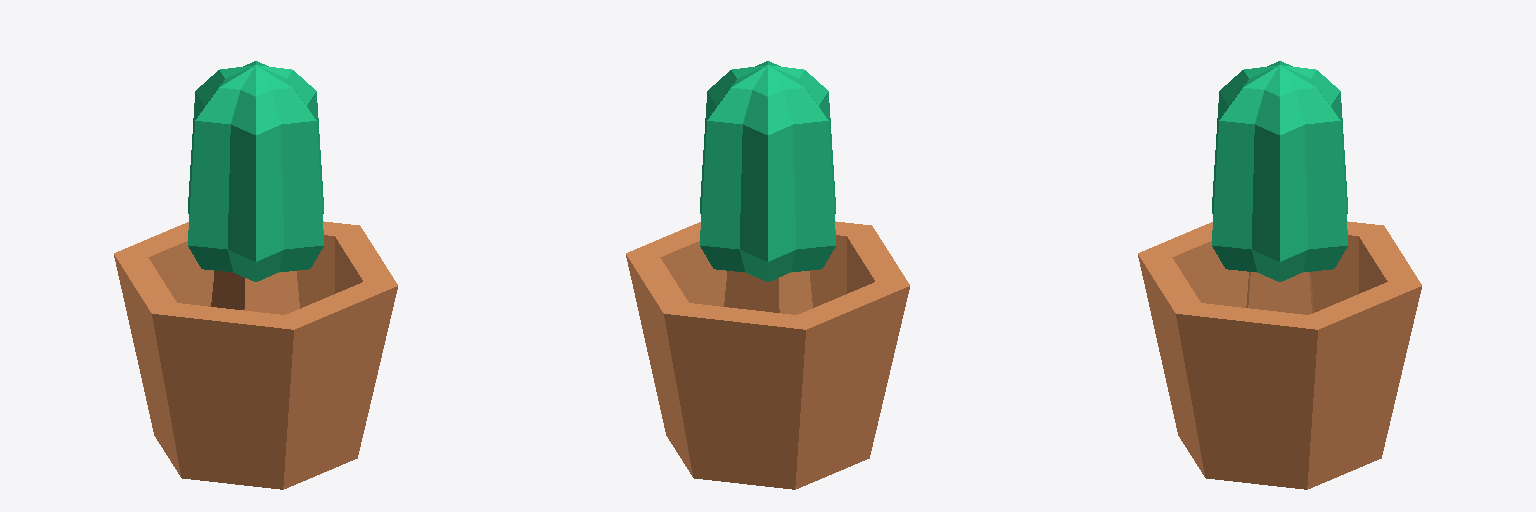
3 renders of one model, left to right at view 1: azimuth 30°, elevation 25°; view 2: azimuth 150°, elevation 25°; view 3: azimuth 270°, elevation 25°, orthographic.
Parts seen in each view (by area): view 1: plantSmall2; view 2: plantSmall2; view 3: plantSmall2.
Part boxes in pixels (x1,y1,x2,y2): plantSmall2: (114,61,397,489); plantSmall2: (626,61,909,489); plantSmall2: (1138,61,1421,489).
Size of the model in its own units: 0.6761 by 1 by 0.6761.